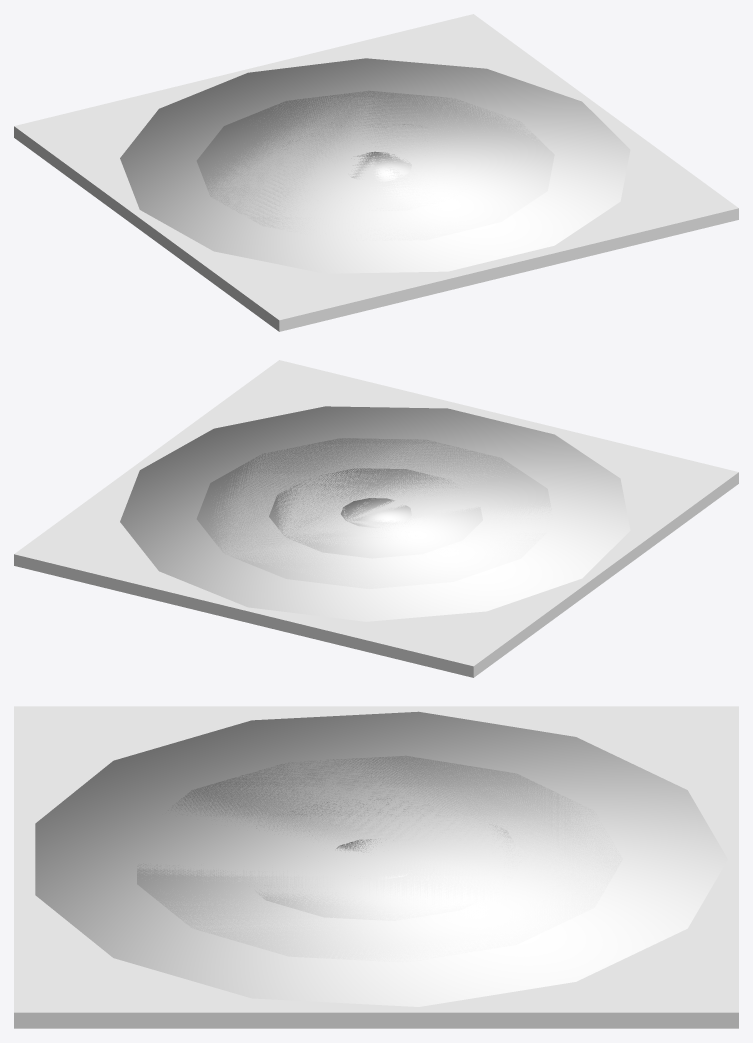
The model's file is grass_clearing.fbx.
3 views of the same model, one above another, from view 1: azimuth 30°, elevation 25°; view 2: azimuth 150°, elevation 25°; view 3: azimuth 270°, elevation 25° (orthographic). The views are drawn at different scales.
Parts seen in each view (by area): view 1: Cylinder.004, Cube.007, Cylinder.002, Cylinder, Cylinder.001; view 2: Cylinder.004, Cube.007, Cylinder.002, Cylinder.001, Cylinder; view 3: Cylinder.004, Cube.007, Cylinder.002, Cylinder.001.
Boxes of the visible parts, x1,y1,x2,y2 form: Cylinder.004: (120, 58, 630, 273); Cube.007: (14, 14, 738, 331); Cylinder.002: (196, 90, 554, 240); Cylinder: (350, 151, 411, 181); Cylinder.001: (283, 124, 466, 210); Cylinder.004: (120, 406, 630, 621); Cube.007: (14, 360, 738, 677); Cylinder.002: (196, 438, 551, 589); Cylinder.001: (269, 468, 482, 558); Cylinder: (341, 498, 411, 527); Cylinder.004: (35, 711, 727, 1006); Cube.007: (14, 706, 738, 1028); Cylinder.002: (137, 755, 622, 962); Cylinder.001: (249, 798, 521, 920).
Bounding box in the file's own units: 1474 × 270 × 1474.
9 materials, 9 textured.
